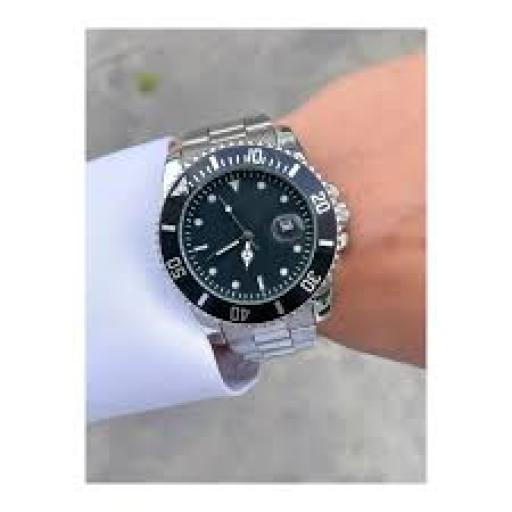KolSaati: (121, 85, 385, 381)
